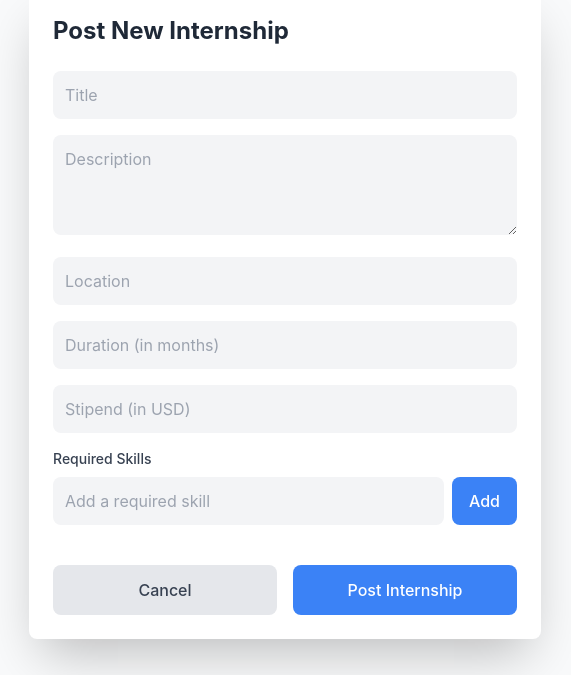
it: AddInternship › validates stipend input
// Test invalid stipend
Type "-100" into the number field with placeholder "Stipend (in USD)". click: (285, 409)
box: [53, 385, 517, 433]
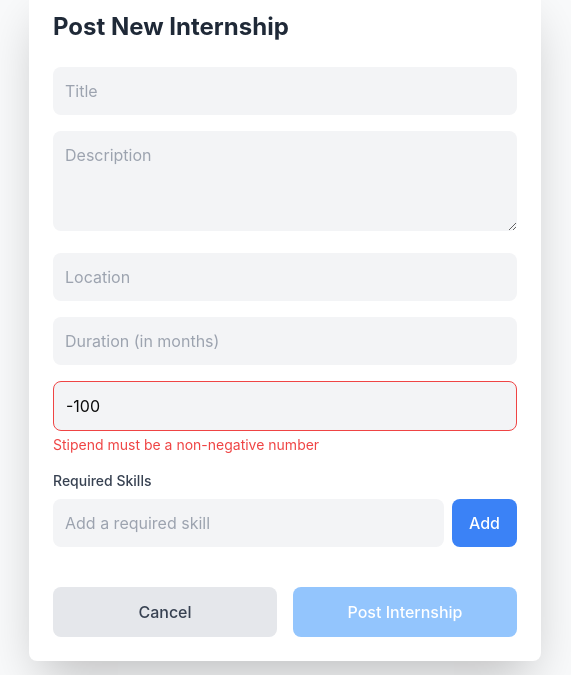
Expected: the text "Stipend must be a non-negative number" is shown, [53, 436, 319, 453]
// Test valid stipend
Replace the text in the number field with placeholder "Stipend (in USD)" with "1000". click: (285, 406)
box: [53, 381, 517, 431]
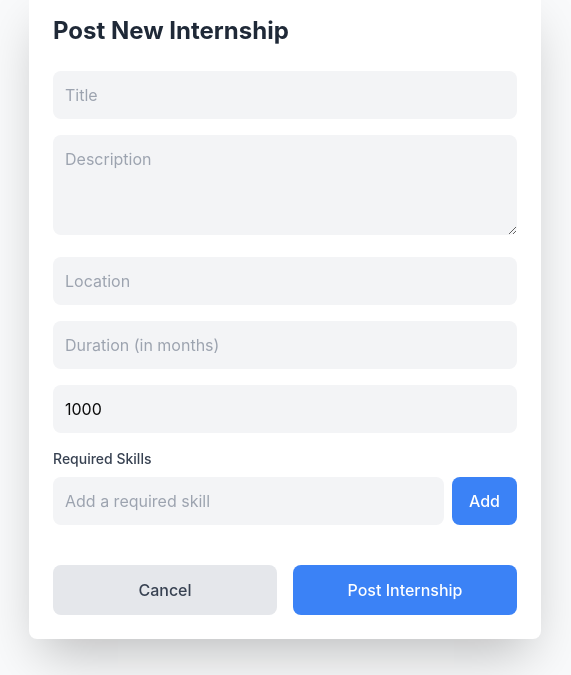
Expected: the text "Stipend must be a non-negative number" is gone
